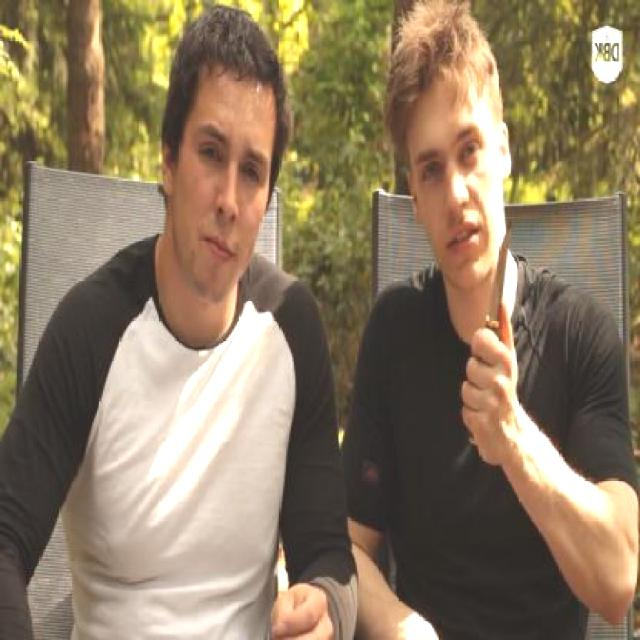knife: (457, 209, 526, 403)
